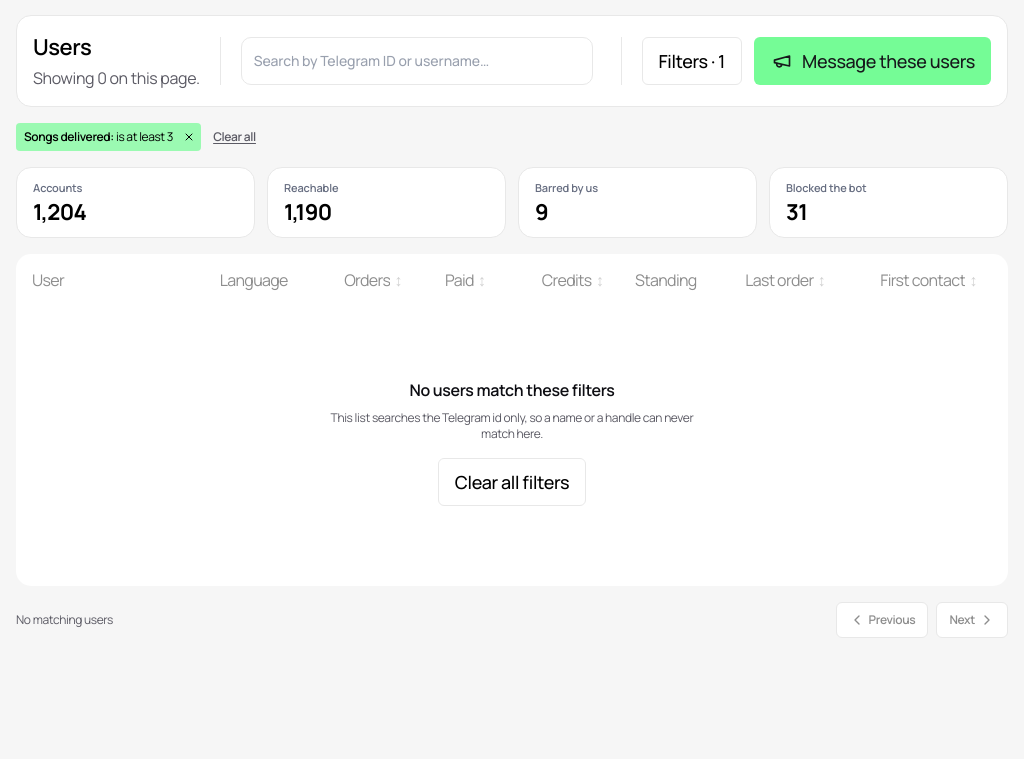
Test: UsersScreen — the audience count › states reachable and the two overlapping skips without ever adding them up
This screenshot has width=1024, height=759.
Click the button "Filters · 1": (692, 61) [642,37,742,85]
(page scrolled)
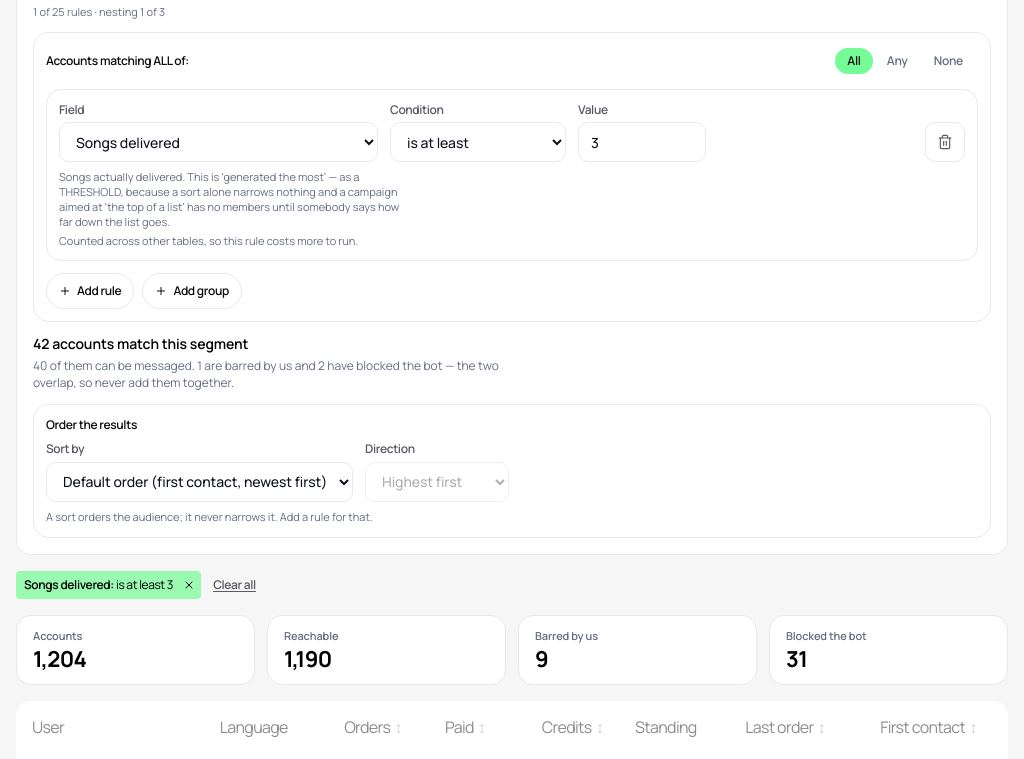
Expected: the text "42 accounts match this segment" is shown, [33,334,248,353]
Expected: the text "40 of them can be messaged. 1 are barred by us and 2 have blocked the bot — the two overlap, so never add them together." is shown, [33,357,499,391]
